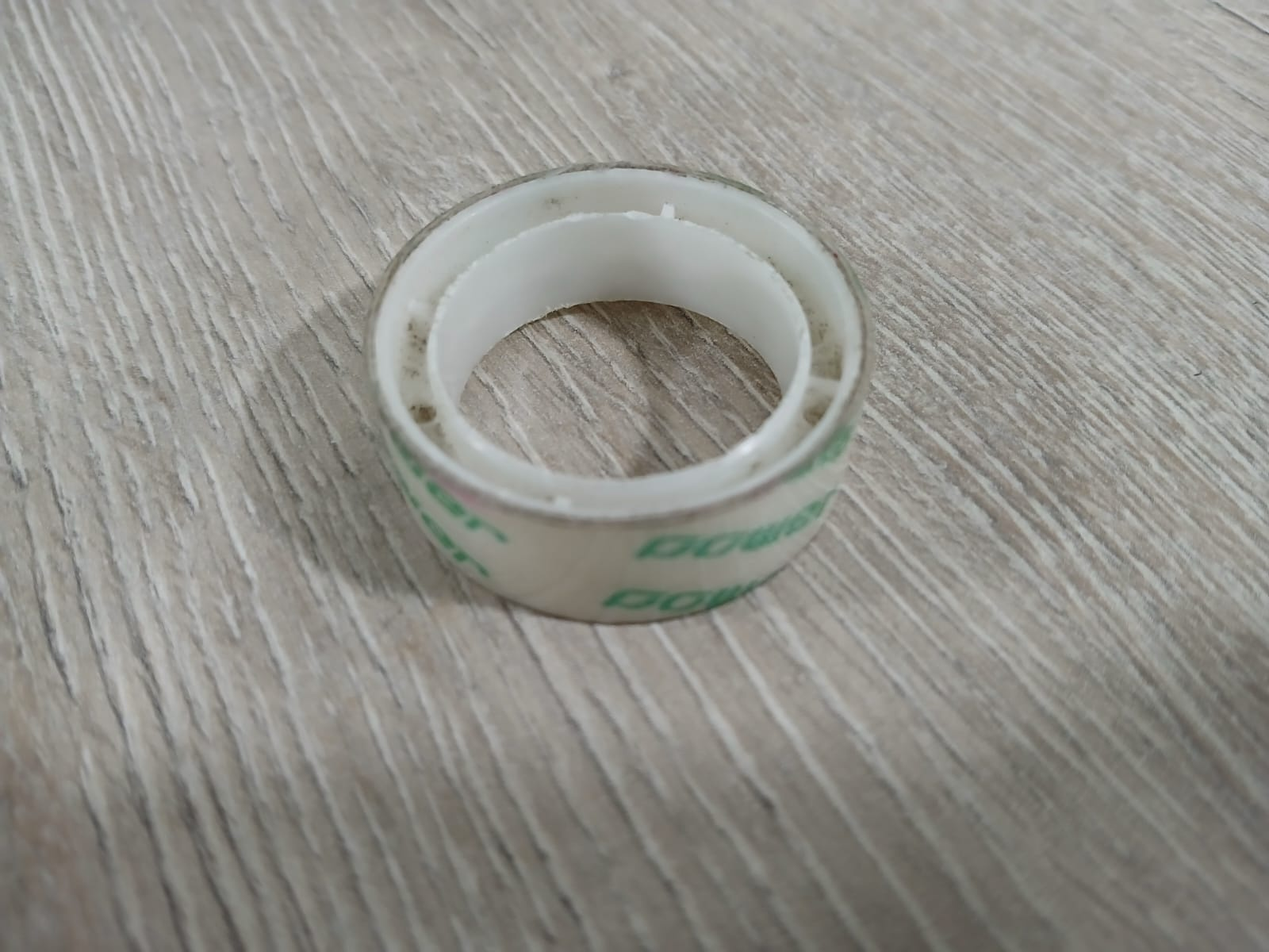Ordinario: (366, 163, 873, 624)
